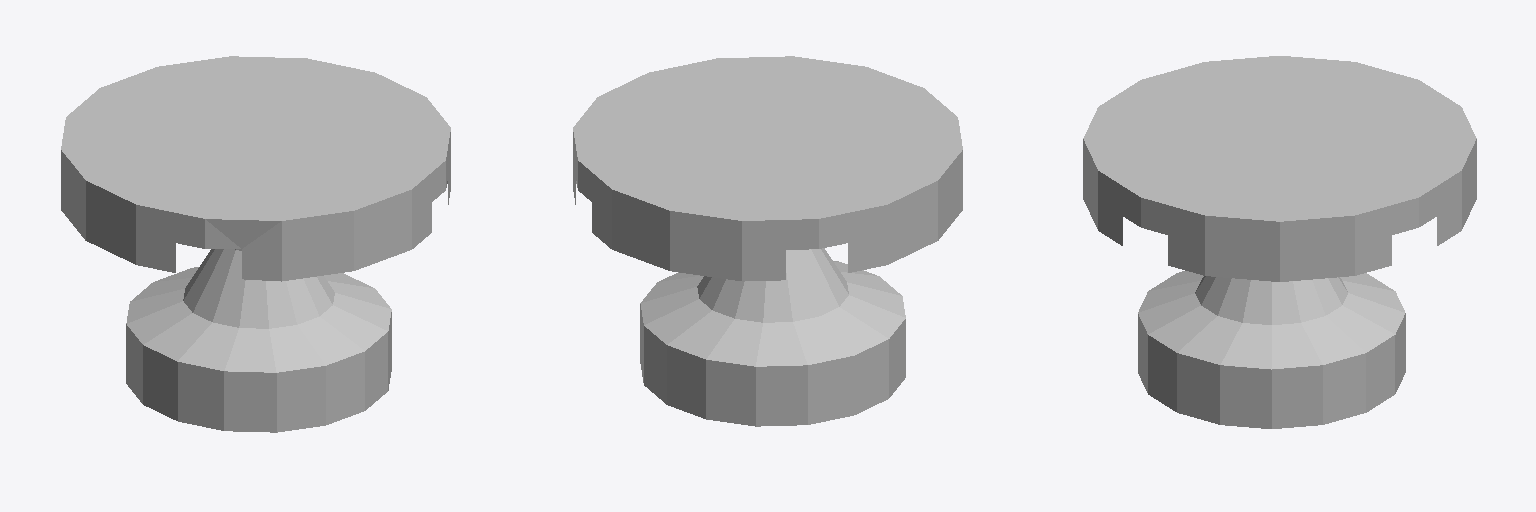
File: Stool.obj
3 views of the same model, side by side, from view 1: azimuth 30°, elevation 25°; view 2: azimuth 150°, elevation 25°; view 3: azimuth 270°, elevation 25° (orthographic).
Parts seen in each view (by area): view 1: Mesh_0017_Mesh_0017Mesh; view 2: Mesh_0017_Mesh_0017Mesh; view 3: Mesh_0017_Mesh_0017Mesh.
Boxes of the visible parts, x1,y1,x2,y2 form: Mesh_0017_Mesh_0017Mesh: [61, 56, 450, 432]; Mesh_0017_Mesh_0017Mesh: [573, 56, 962, 426]; Mesh_0017_Mesh_0017Mesh: [1083, 56, 1476, 428].
Size of the model in its own units: 0.1876 by 0.1234 by 0.1876.